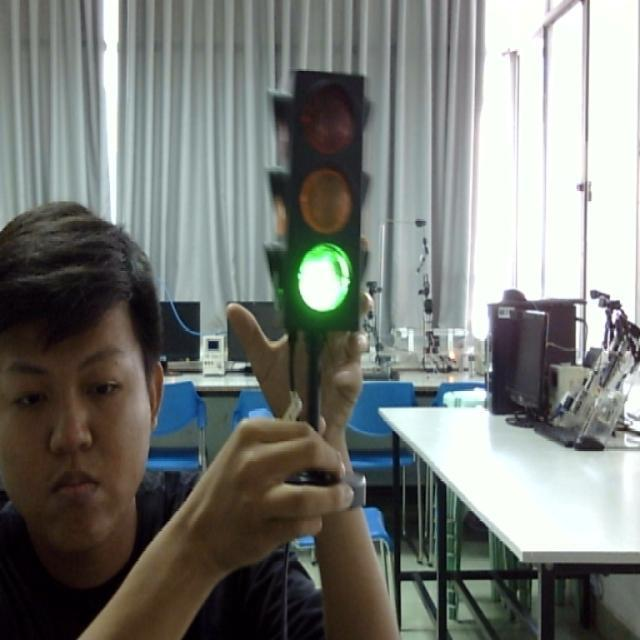green_light: (279, 56, 369, 346)
